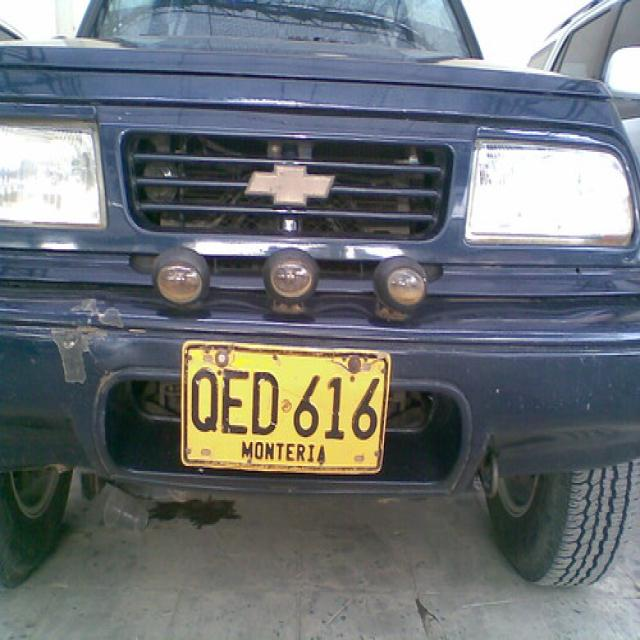placas: (187, 359, 385, 444)
